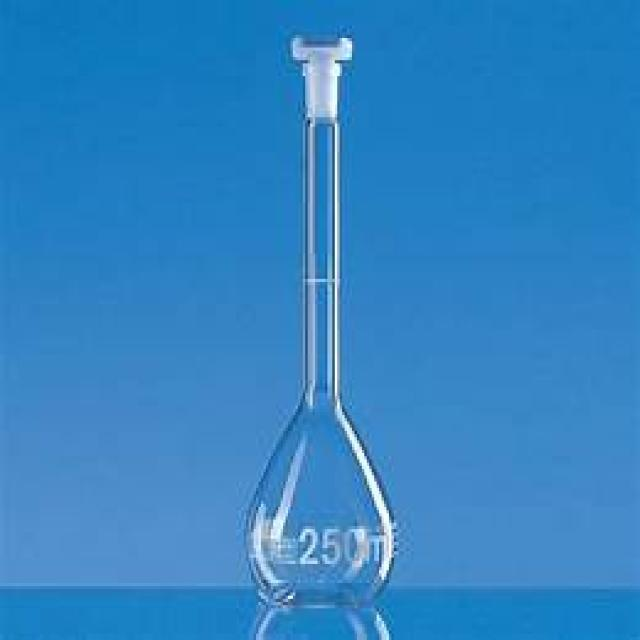Volumetric flask: (247, 32, 402, 605)
